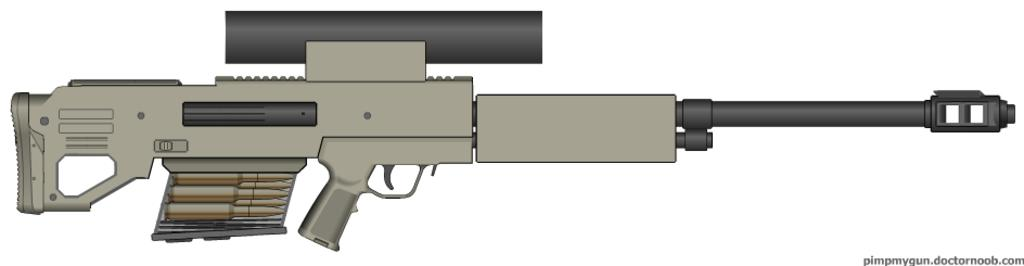Rifle: (0, 60, 1024, 246)
